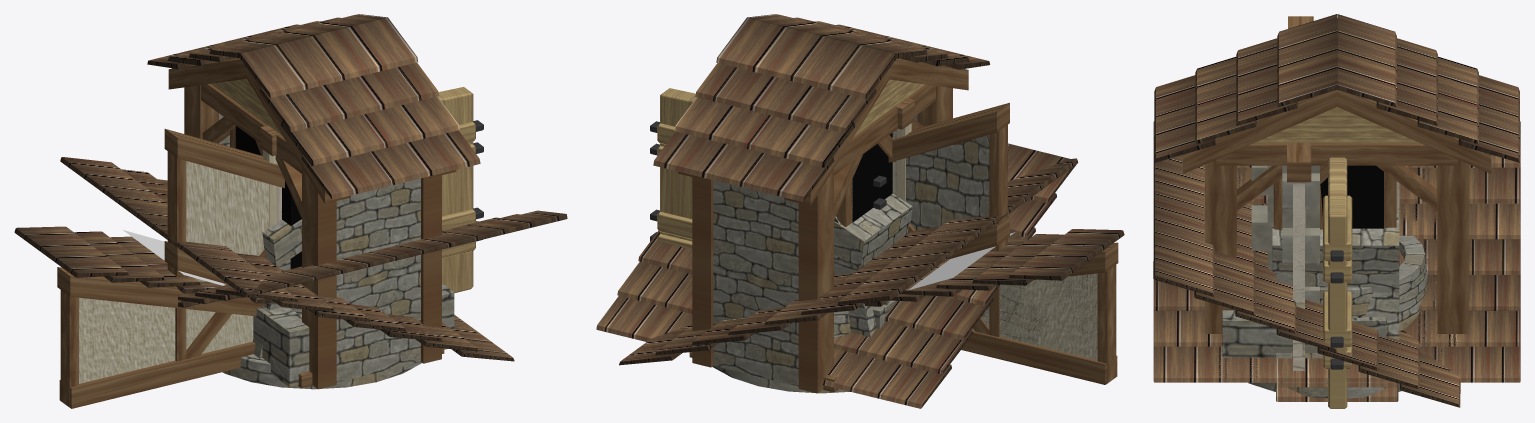
Rendered from cottage.glb.
The picture shows the model from 3 angles, left to right: view 1: azimuth 30°, elevation 25°; view 2: azimuth 150°, elevation 25°; view 3: azimuth 270°, elevation 25°; orthographic projection. The views are drawn at different scales.
Visible parts, largest first — view 1: MineEntrance, CottageGableThree, CottageGableTall, CottageRoofWide3, CottageRoofThree, CottageRoofConcave, HeavyGateRight, Forge, CottageGable, CottageRoofWide2, StoneWell, CottageRoofConvex (+5 smaller); view 2: MineEntrance, CottageRoofConvex, CottageGableThree, CottageRoofConcave, CottageRoofWide3, CottageRoofThree, CottageStoneGableTall, CottageGableTall, BrickOvern, HeavyGateRight, CottageRoofWide2, BasementWall (+7 smaller); view 3: MineEntrance, CottageRoofConcave, CottageRoofWide3, CottageRoofWide2, HeavyGateRight, BrickOvern, StoneWell, BasementWall, FittedStoneWallCornerTee, Forge, CottageWallInteriorExtended, FittedStoneWallCornerConvex (+6 smaller).
Boxes of the visible parts, x1,y1,x2,y2 form: MineEntrance: [147, 14, 480, 389]; CottageGableThree: [57, 267, 264, 408]; CottageGableTall: [164, 129, 284, 360]; CottageRoofWide3: [60, 157, 514, 360]; CottageRoofThree: [14, 226, 274, 303]; CottageRoofConcave: [158, 179, 567, 293]; HeavyGateRight: [438, 87, 475, 293]; Forge: [253, 283, 454, 387]; CottageGable: [164, 241, 255, 367]; CottageRoofWide2: [91, 180, 481, 334]; StoneWell: [222, 308, 421, 389]; CottageRoofConvex: [178, 284, 513, 361]; MineEntrance: [653, 14, 989, 393]; CottageRoofConvex: [689, 159, 1077, 408]; CottageGableThree: [961, 242, 1118, 384]; CottageRoofConcave: [596, 143, 1070, 365]; CottageRoofWide3: [619, 158, 1078, 364]; CottageRoofThree: [864, 229, 1124, 306]; CottageStoneGableTall: [906, 135, 989, 229]; CottageGableTall: [888, 102, 1009, 336]; BrickOvern: [834, 193, 912, 337]; HeavyGateRight: [657, 88, 695, 249]; CottageRoofWide2: [654, 181, 1045, 337]; BasementWall: [836, 133, 892, 226]; MineEntrance: [1154, 14, 1519, 333]; CottageRoofConcave: [1153, 121, 1520, 407]; CottageRoofWide3: [1153, 121, 1520, 382]; CottageRoofWide2: [1215, 165, 1458, 382]; HeavyGateRight: [1323, 157, 1352, 408]; BrickOvern: [1272, 182, 1399, 358]; StoneWell: [1248, 235, 1427, 398]; BasementWall: [1320, 165, 1396, 228]; FittedStoneWallCornerTee: [1251, 165, 1319, 303]; Forge: [1222, 310, 1386, 357]; CottageWallInteriorExtended: [1287, 142, 1311, 370]; FittedStoneWallCornerConvex: [1254, 165, 1317, 302].
Size of the model in its own units: 4.07 by 2.71 by 3.
Materials: 12 (7 with a texture image).
